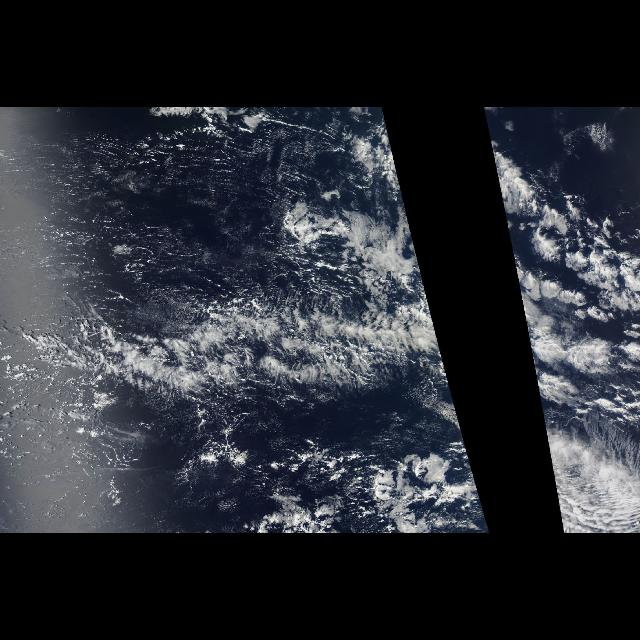Fish: (0, 182, 458, 452), (526, 324, 636, 511)
Flower: (504, 203, 618, 317)
Sugar: (15, 124, 262, 292)
